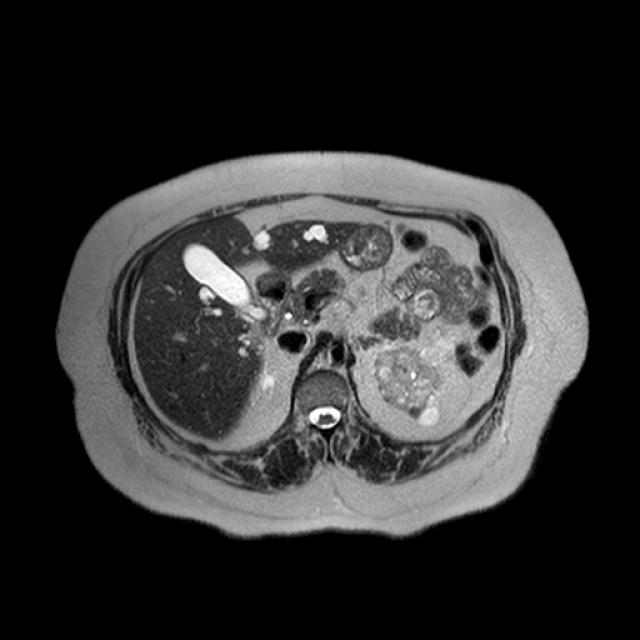sag: (256, 372, 275, 399)
sol: (371, 346, 444, 427)
